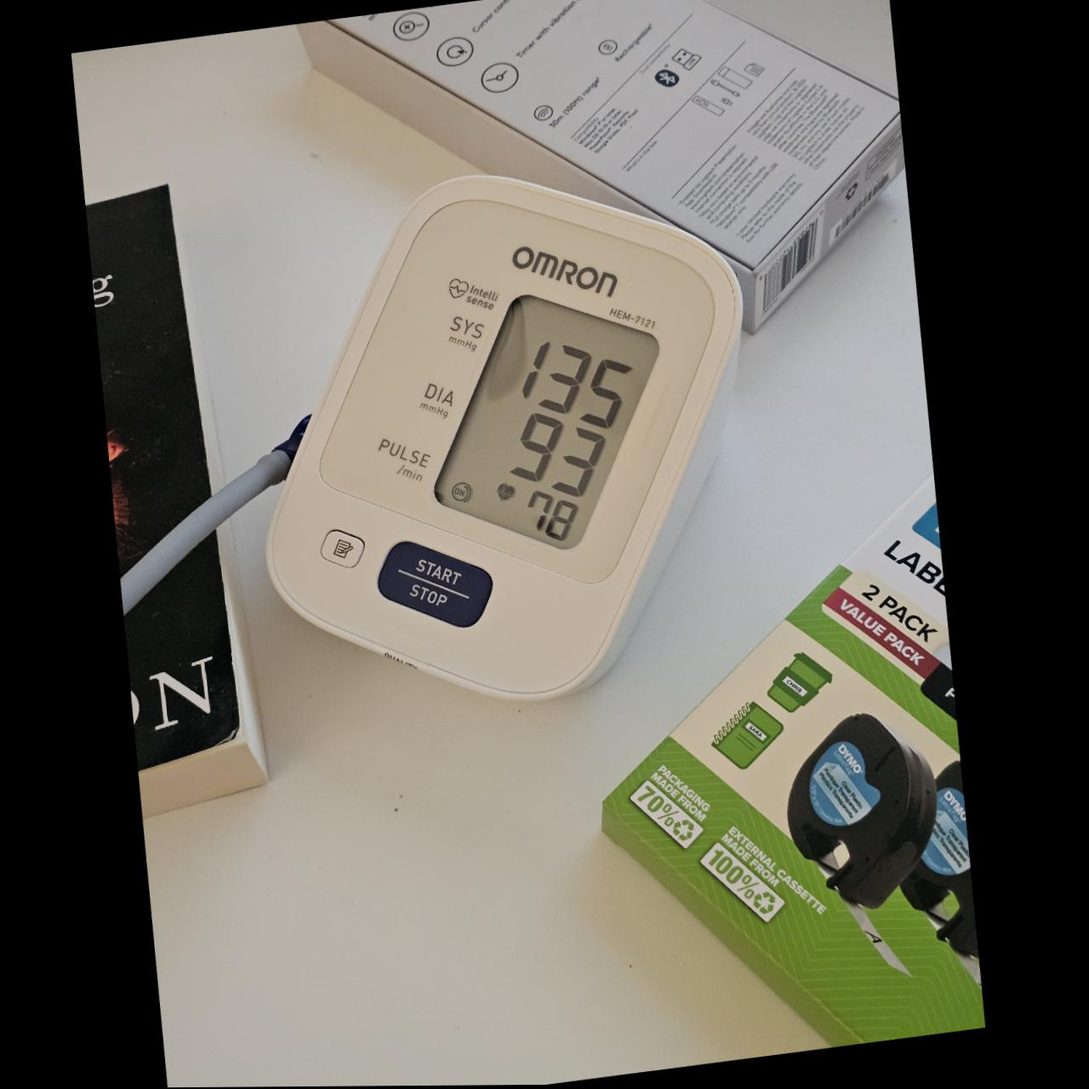lcd display: (409, 277, 688, 566)
